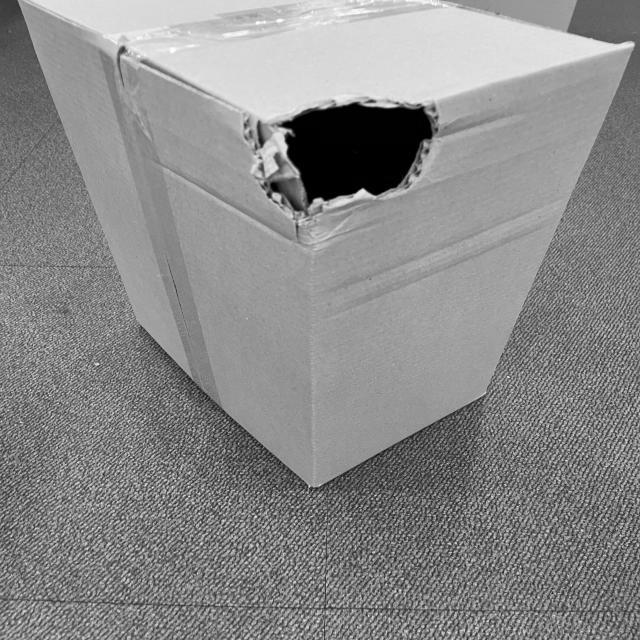hole: (245, 94, 446, 222)
